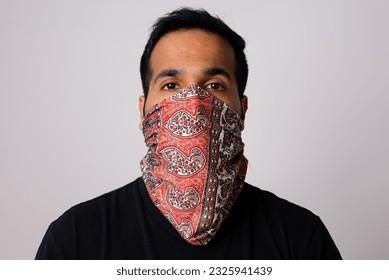scarf-kerchief: (135, 82, 251, 251)
